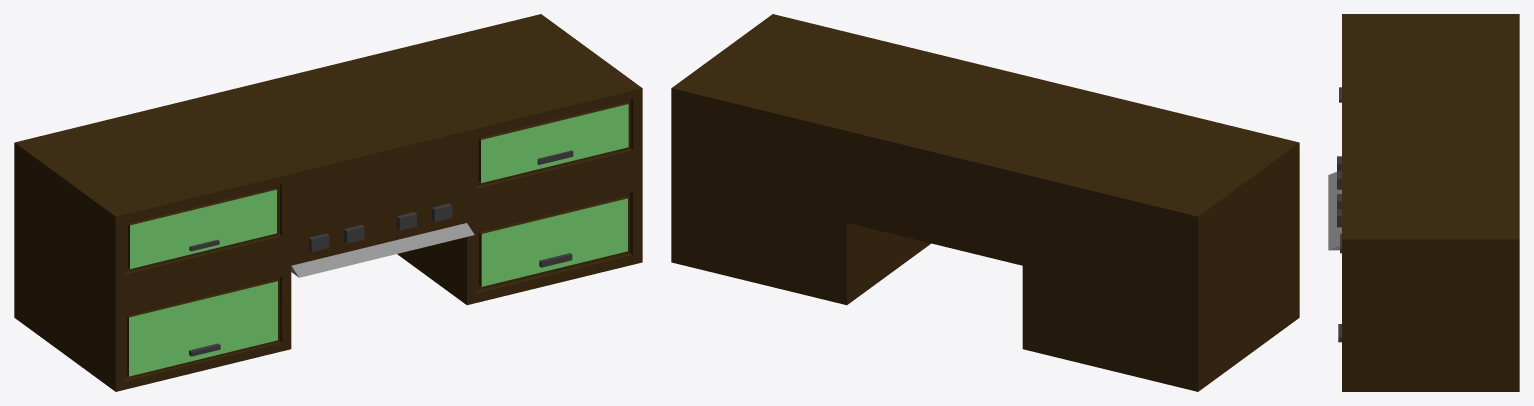
The model's file is afzuigkap c.fbx.
3 views of the same model, side by side, from view 1: azimuth 30°, elevation 25°; view 2: azimuth 150°, elevation 25°; view 3: azimuth 270°, elevation 25° (orthographic). The views are drawn at different scales.
Visible parts, largest first — view 1: Cube; view 2: Cube; view 3: Cube.
Part boxes in pixels (bbox=[...]): Cube: bbox=[14, 14, 642, 391]; Cube: bbox=[671, 14, 1299, 391]; Cube: bbox=[1328, 14, 1519, 391].
Size of the model in its own units: 300 by 95.39 by 108.
